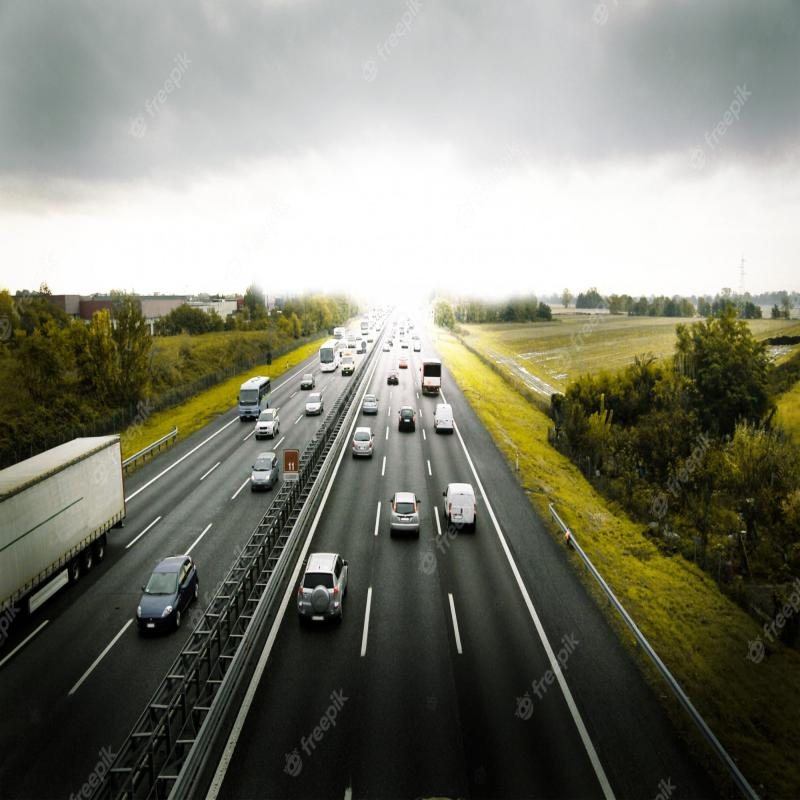car: (294, 536, 364, 639), (123, 538, 193, 631), (235, 359, 278, 445), (451, 480, 487, 552), (390, 478, 420, 552), (387, 479, 425, 533), (245, 446, 282, 496), (342, 420, 375, 470), (436, 398, 458, 454), (403, 403, 415, 437)
